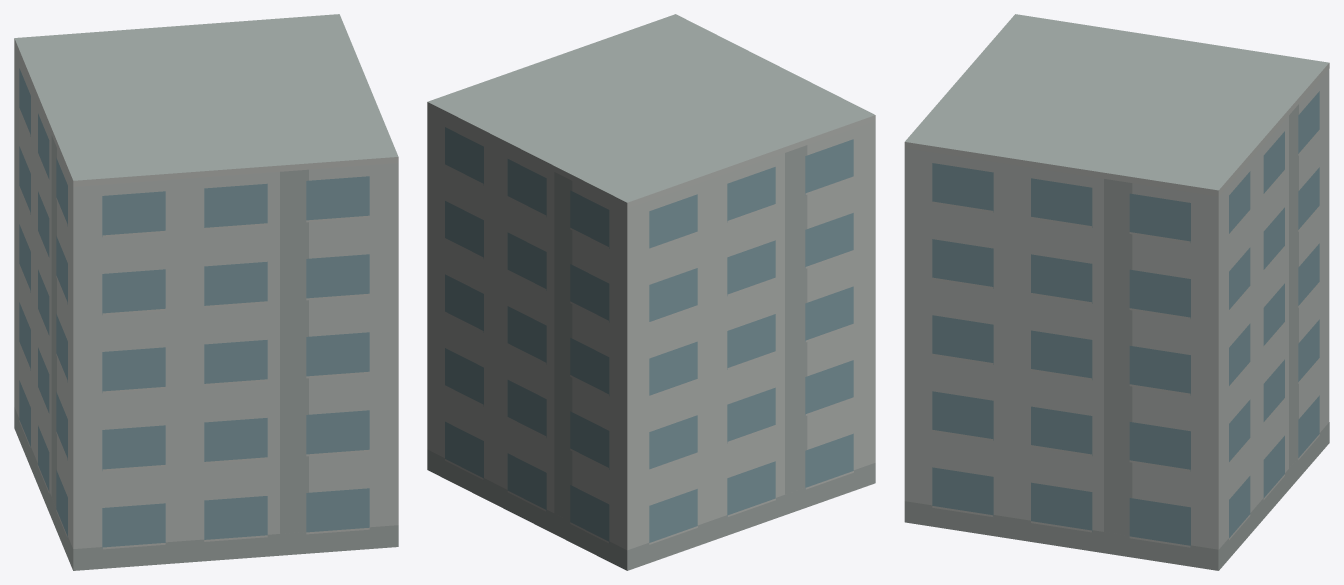
Rendered from residential-a9b9fc0e-f213-405c-8a3f-d8711ac04825.glb.
The picture shows the model from 3 angles, left to right: view 1: azimuth 30°, elevation 25°; view 2: azimuth 150°, elevation 25°; view 3: azimuth 270°, elevation 25°; orthographic projection. The views are drawn at different scales.
Visible parts, largest first — view 1: residential-a9b9fc0e-f213-405c-8a3f-d8711ac04825.tmp; view 2: residential-a9b9fc0e-f213-405c-8a3f-d8711ac04825.tmp; view 3: residential-a9b9fc0e-f213-405c-8a3f-d8711ac04825.tmp.
Part boxes in pixels (x1=…): residential-a9b9fc0e-f213-405c-8a3f-d8711ac04825.tmp: x1=14, y1=14, x2=398, y2=570; residential-a9b9fc0e-f213-405c-8a3f-d8711ac04825.tmp: x1=427, y1=14, x2=875, y2=570; residential-a9b9fc0e-f213-405c-8a3f-d8711ac04825.tmp: x1=904, y1=14, x2=1329, y2=570.
Size of the model in its own units: 15.17 by 15.25 by 15.44.
